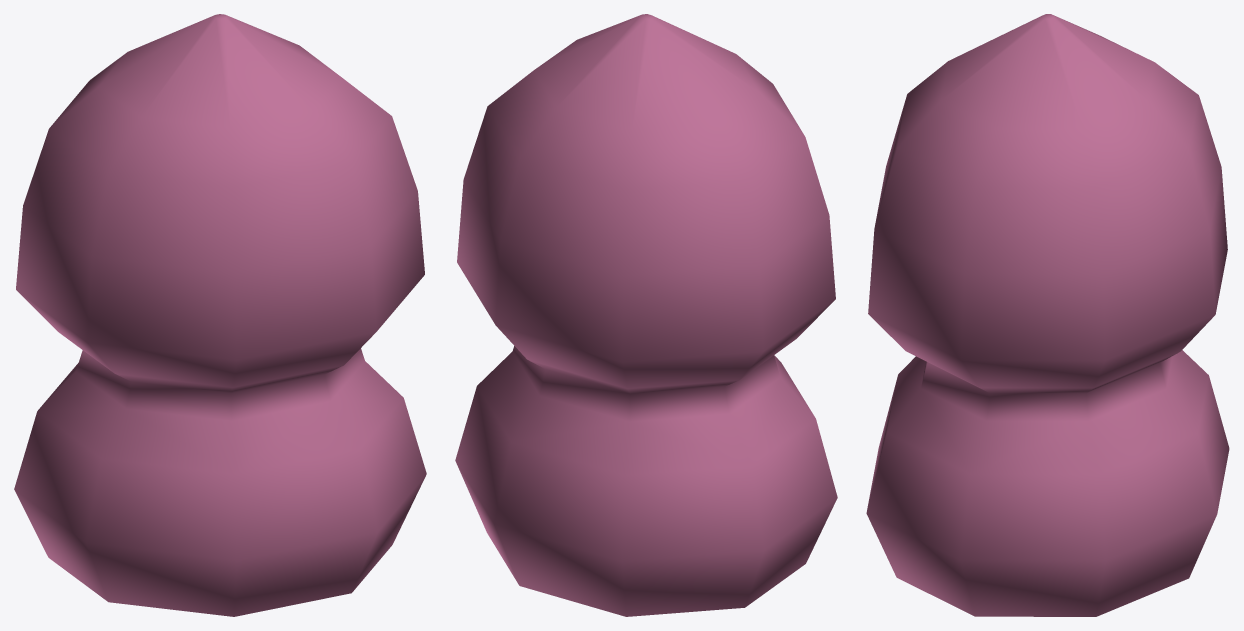
Rendered from Brush Blender Sponge.glb.
3 renders of one model, left to right at view 1: azimuth 30°, elevation 25°; view 2: azimuth 150°, elevation 25°; view 3: azimuth 270°, elevation 25°, orthographic.
Visible parts, largest first — view 1: brush_blender_sponge.003; view 2: brush_blender_sponge.003; view 3: brush_blender_sponge.003.
Part boxes in pixels (<box>): brush_blender_sponge.003: <box>14,14,426,616</box>; brush_blender_sponge.003: <box>455,14,837,616</box>; brush_blender_sponge.003: <box>866,14,1229,616</box>.
Size of the model in its own units: 8.05 by 13.55 by 7.76.
Materials: 1 (1 with a texture image).
